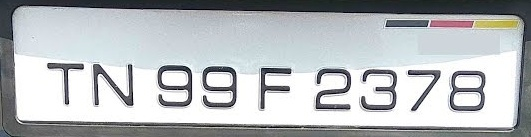character: (89, 59, 136, 109), (42, 59, 87, 106), (311, 63, 352, 113), (447, 67, 489, 114), (359, 65, 399, 114), (255, 63, 295, 111), (404, 65, 443, 114), (155, 61, 193, 109), (200, 62, 237, 109)
